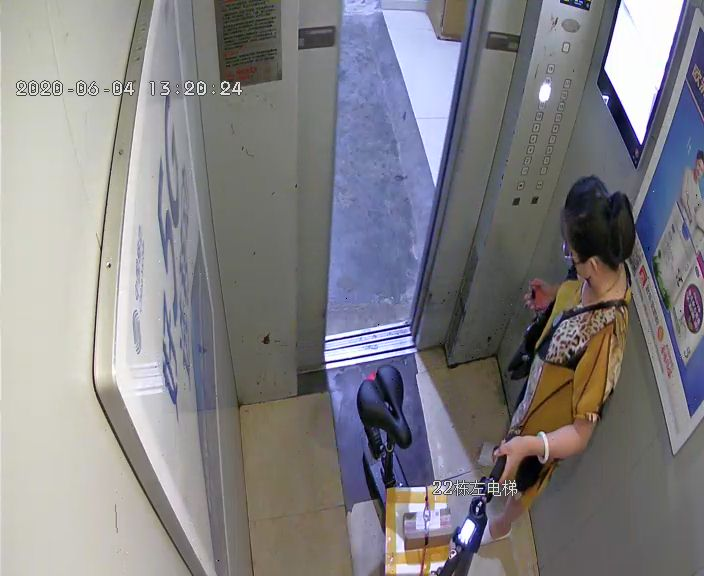Electric-bicycle: (354, 359, 516, 576)
